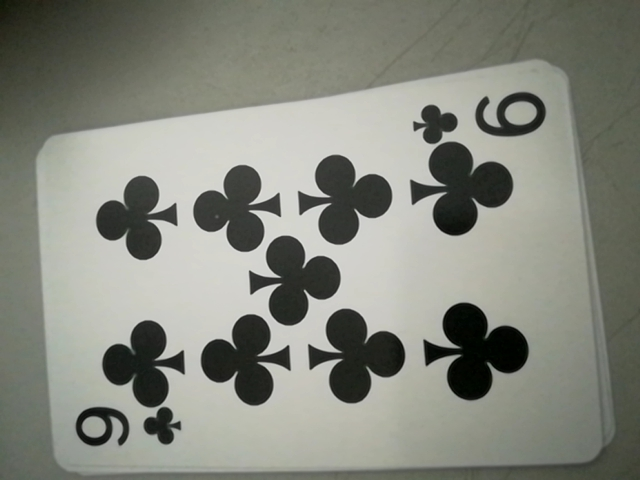mh 9: (411, 85, 550, 148), (69, 400, 186, 463)
